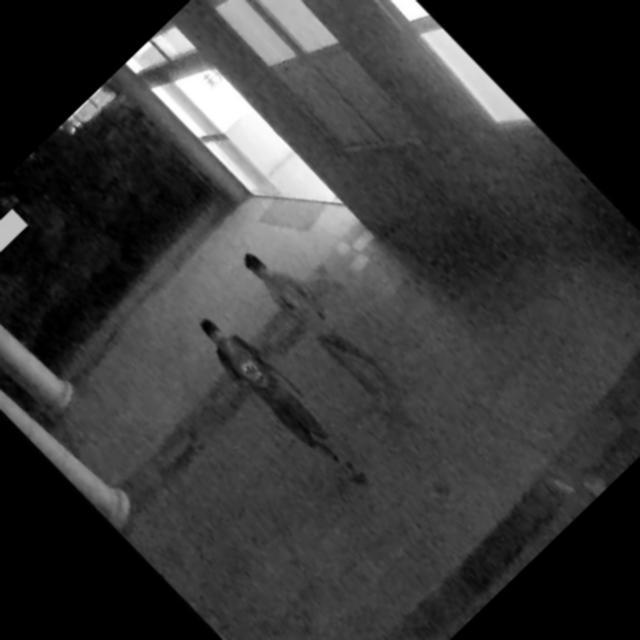person: (181, 296, 386, 505), (230, 228, 416, 418)
